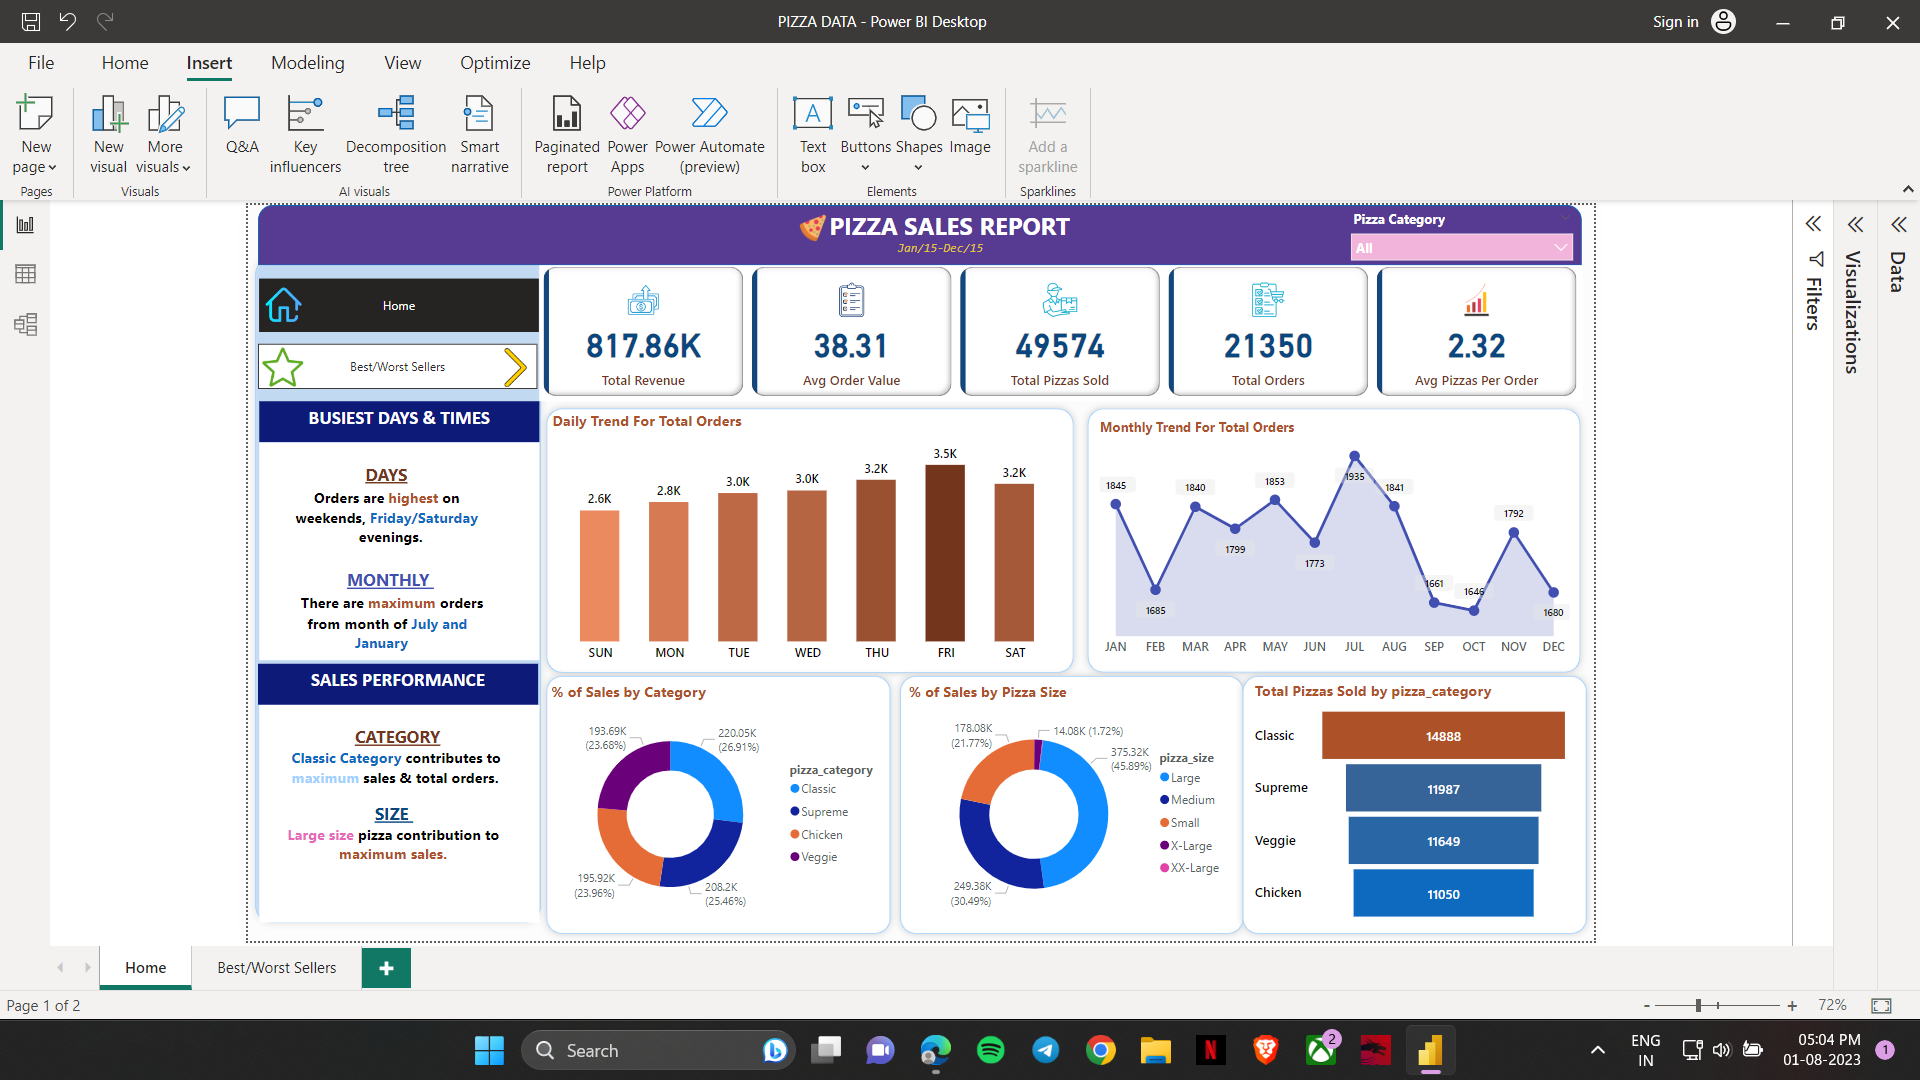

The dashboard page shown, as its layout file describes it:
{"tool":"powerbi","page":{"name":"Home","canvas":[1500,820],"ordinal":0},"visuals":[{"type":"shape","box":[0,50.1,334.1,757.4],"z":0},{"type":"cardVisual","fields":{"Data":["pizza_sales.Total Revenue","pizza_sales.Avg Order Value","pizza_sales.Total Pizzas Sold","pizza_sales.Total Orders","pizza_sales.Avg Pizzas Per Order"]},"box":[324.4,64,1162.5,154.5],"z":1000},{"type":"shape","box":[11.1,0,1474.3,66.8],"z":2000},{"type":"textbox","box":[637.5,0,287.5,50],"z":3000},{"type":"textbox","box":[718.8,33.8,115,30],"z":4000},{"type":"image","box":[593.8,5,71.2,40],"z":5000},{"type":"shape","box":[324.4,218.6,602.8,310.5],"z":6000},{"type":"textbox","box":[12.5,218.6,311.9,45.9],"z":7000},{"type":"columnChart","title":"Daily Trend For Total Orders","fields":{"Category":["pizza_sales.Order Day"],"Y":["pizza_sales.Total Orders"]},"box":[334.1,228.3,579.2,289.6],"z":8000},{"type":"shape","box":[927.5,218.8,565,310],"z":9000},{"type":"areaChart","title":"Monthly Trend For Total Orders","fields":{"Category":["pizza_sales.Order Month"],"Y":["pizza_sales.Total Orders"]},"box":[943.9,236.7,533.2,274.3],"z":10000},{"type":"shape","box":[324.4,516.5,399.6,303.5],"z":11000},{"type":"shape","box":[718.4,516.5,398.2,303.5],"z":12000},{"type":"shape","box":[1099.8,516.5,399.6,303.5],"z":13000},{"type":"donutChart","title":"% of Sales by Category","fields":{"Category":["pizza_sales.pizza_category"],"Y":["pizza_sales.Total Revenue"]},"box":[332.7,530.4,384.2,274.3],"z":14000},{"type":"donutChart","title":"% of Sales by Pizza Size","fields":{"Y":["pizza_sales.Total Revenue"],"Category":["pizza_sales.pizza_size"]},"box":[730.9,530.4,368.9,274.3],"z":15000},{"type":"funnel","fields":{"Category":["pizza_sales.pizza_category"],"Y":["pizza_sales.Total Pizzas Sold"]},"box":[1116.5,529,360.6,275.7],"z":16000},{"type":"textbox","box":[12.5,264.5,311.9,242.2],"z":17000},{"type":"textbox","box":[11.1,510.9,311.9,45.9],"z":18000},{"type":"textbox","box":[12.5,556.9,311.9,242.2],"z":19000},{"type":"slicer","fields":{"Values":["pizza_sales.pizza_category"]},"box":[1218.2,0,267.3,66.8],"z":20000},{"type":"pageNavigator","box":[11.1,154.5,311.9,50.1],"z":21000},{"type":"pageNavigator","box":[12.5,82.1,311.9,59.9],"z":22000},{"type":"image","box":[11.1,149,55.7,62.6],"z":22001},{"type":"image","box":[271.5,154.5,52.9,52.9],"z":22002},{"type":"image","box":[12.5,86.3,54.3,50.1],"z":22003}]}

Visuals, with their boxes on the page's 1500x820 design canvas (x1, y1, x2, y2). These are canvas units, not pixel positions in the 1920x1080 screenshot, which may show the page scaled, cropped or inside an application window:
shape: (x1=0, y1=50, x2=334, y2=808)
cardVisual - pizza_sales.Total Revenue x pizza_sales.Avg Order Value: (x1=324, y1=64, x2=1487, y2=218)
shape: (x1=11, y1=0, x2=1485, y2=67)
textbox: (x1=638, y1=0, x2=925, y2=50)
textbox: (x1=719, y1=34, x2=834, y2=64)
image: (x1=594, y1=5, x2=665, y2=45)
shape: (x1=324, y1=219, x2=927, y2=529)
textbox: (x1=12, y1=219, x2=324, y2=264)
"Daily Trend For Total Orders" columnChart: (x1=334, y1=228, x2=913, y2=518)
shape: (x1=928, y1=219, x2=1492, y2=529)
"Monthly Trend For Total Orders" areaChart: (x1=944, y1=237, x2=1477, y2=511)
shape: (x1=324, y1=516, x2=724, y2=820)
shape: (x1=718, y1=516, x2=1117, y2=820)
shape: (x1=1100, y1=516, x2=1499, y2=820)
"% of Sales by Category" donutChart: (x1=333, y1=530, x2=717, y2=805)
"% of Sales by Pizza Size" donutChart: (x1=731, y1=530, x2=1100, y2=805)
funnel - pizza_sales.pizza_category x pizza_sales.Total Pizzas Sold: (x1=1116, y1=529, x2=1477, y2=805)
textbox: (x1=12, y1=264, x2=324, y2=507)
textbox: (x1=11, y1=511, x2=323, y2=557)
textbox: (x1=12, y1=557, x2=324, y2=799)
slicer - pizza_sales.pizza_category: (x1=1218, y1=0, x2=1486, y2=67)
pageNavigator: (x1=11, y1=154, x2=323, y2=205)
pageNavigator: (x1=12, y1=82, x2=324, y2=142)
image: (x1=11, y1=149, x2=67, y2=212)
image: (x1=272, y1=154, x2=324, y2=207)
image: (x1=12, y1=86, x2=67, y2=136)
